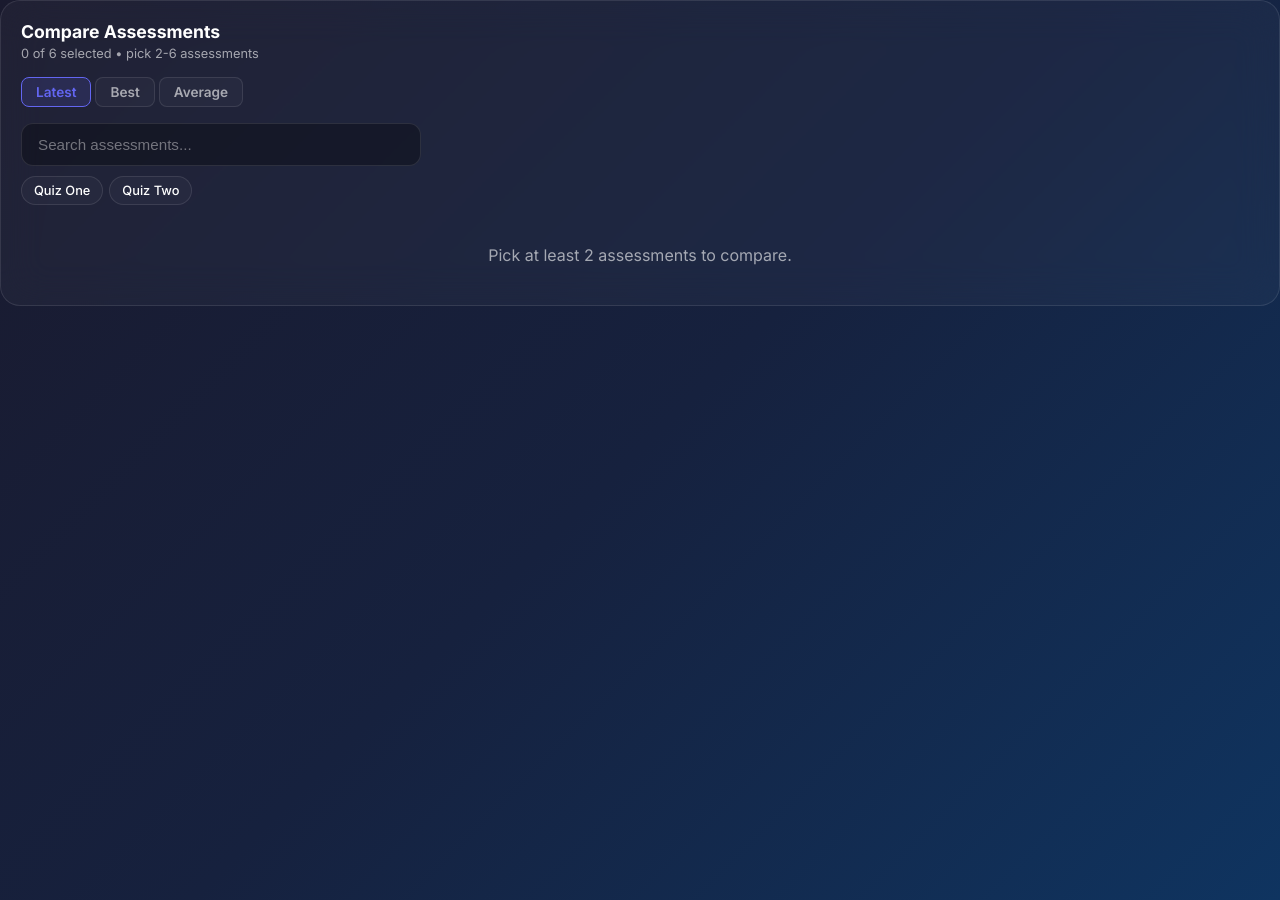
it: AssessmentComparison mounts without crashing (render-time smoke) › selecting 2 renders stat cards, box plot SVG, and standards heatmap
The width and height of the screenshot is (1280, 900).
Click the button "Quiz One" at point(62, 190), box [21, 176, 103, 205]
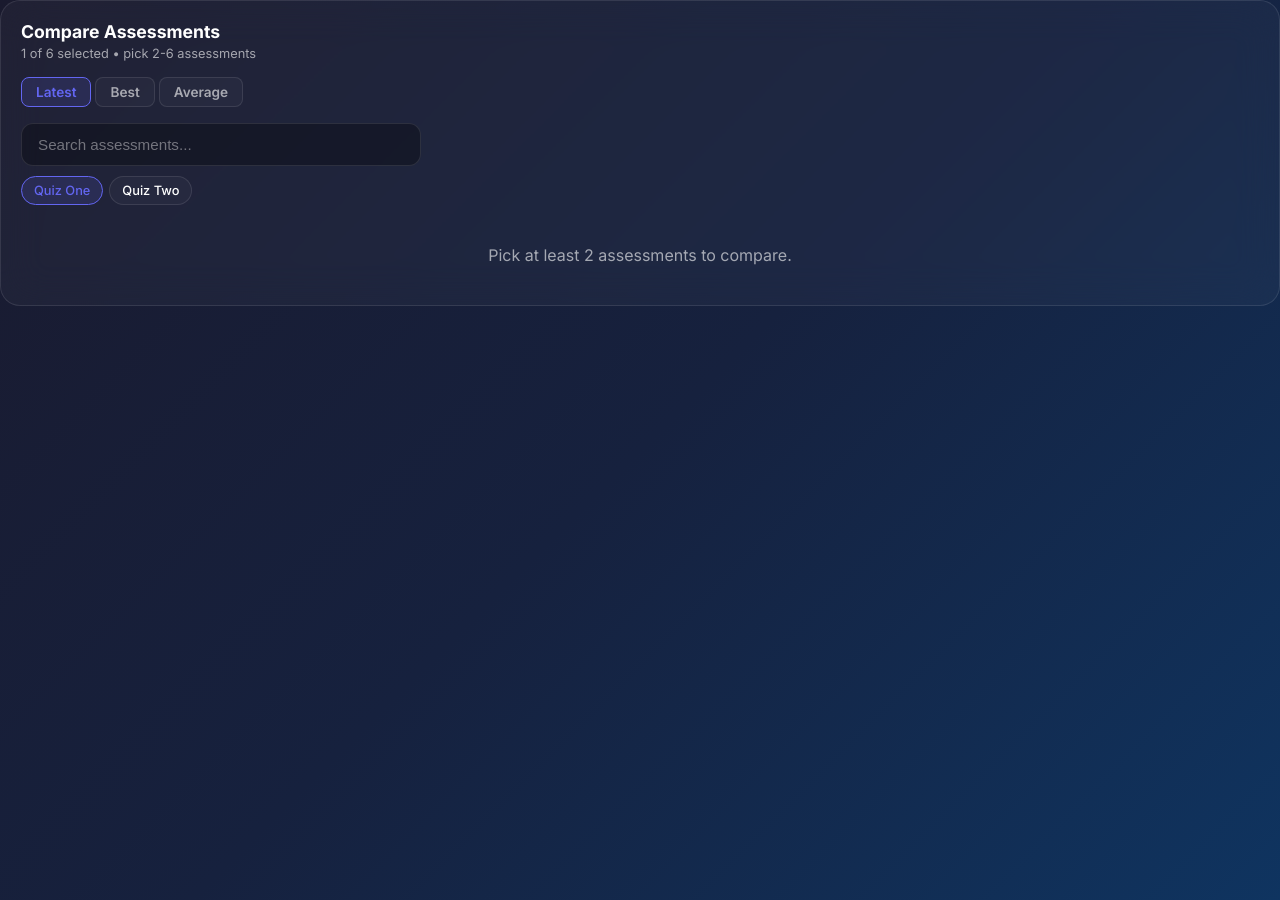
Click the button "Quiz Two" at point(151, 190), box [109, 176, 192, 205]
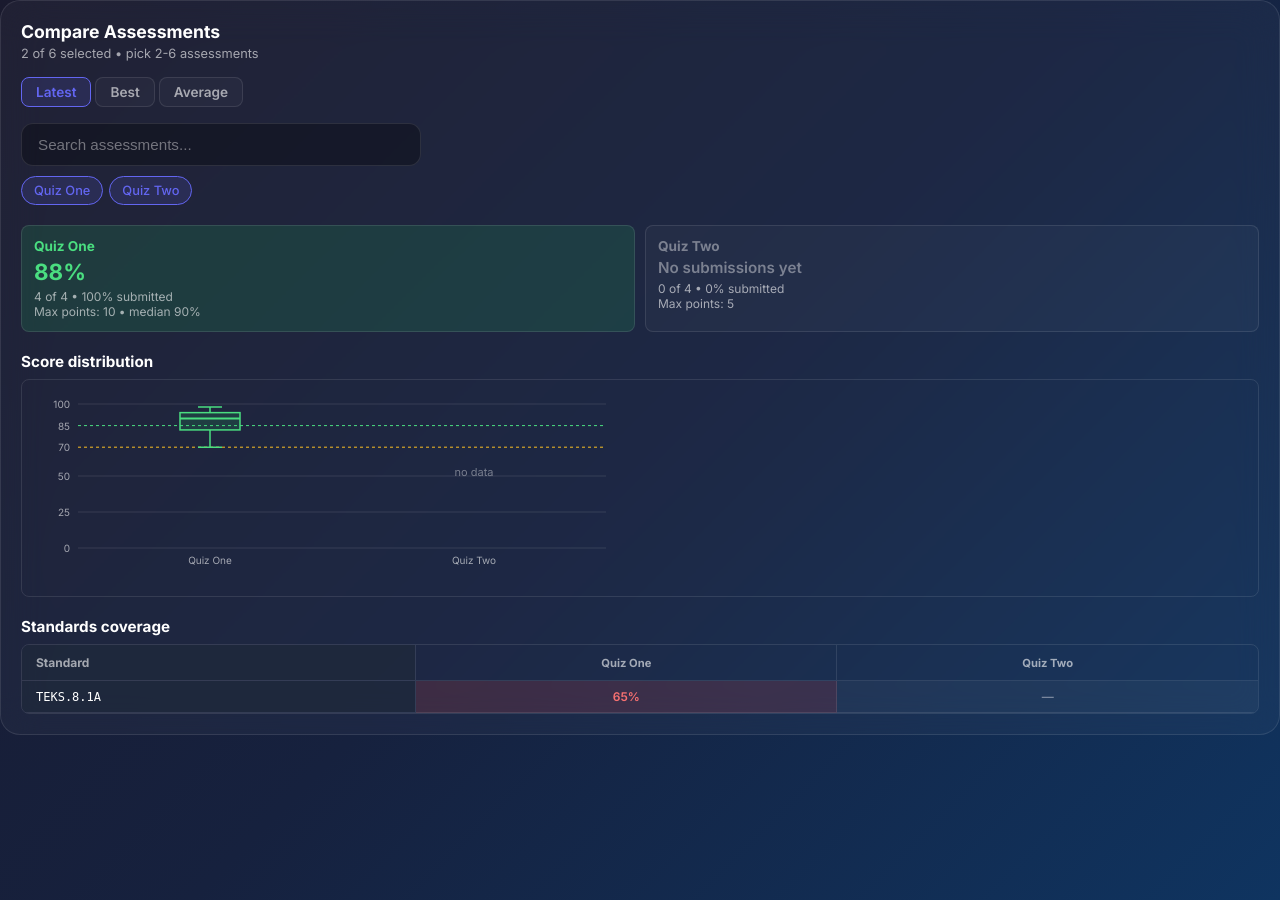
Result: the text "88%" is shown at [34, 258, 86, 285]
Result: the text "No submissions yet" is shown at [658, 258, 802, 277]
Result: the text "4 of 4 • 100% submitted" is shown at [34, 289, 173, 304]
